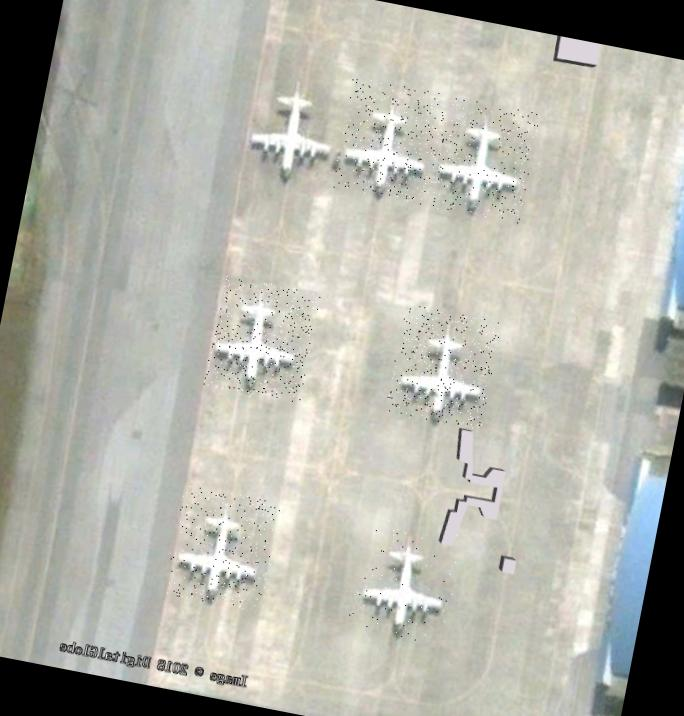A9: (163, 483, 282, 612), (422, 94, 540, 224), (330, 76, 448, 206), (234, 60, 352, 190), (346, 516, 464, 646), (384, 303, 502, 432), (204, 274, 322, 403)
